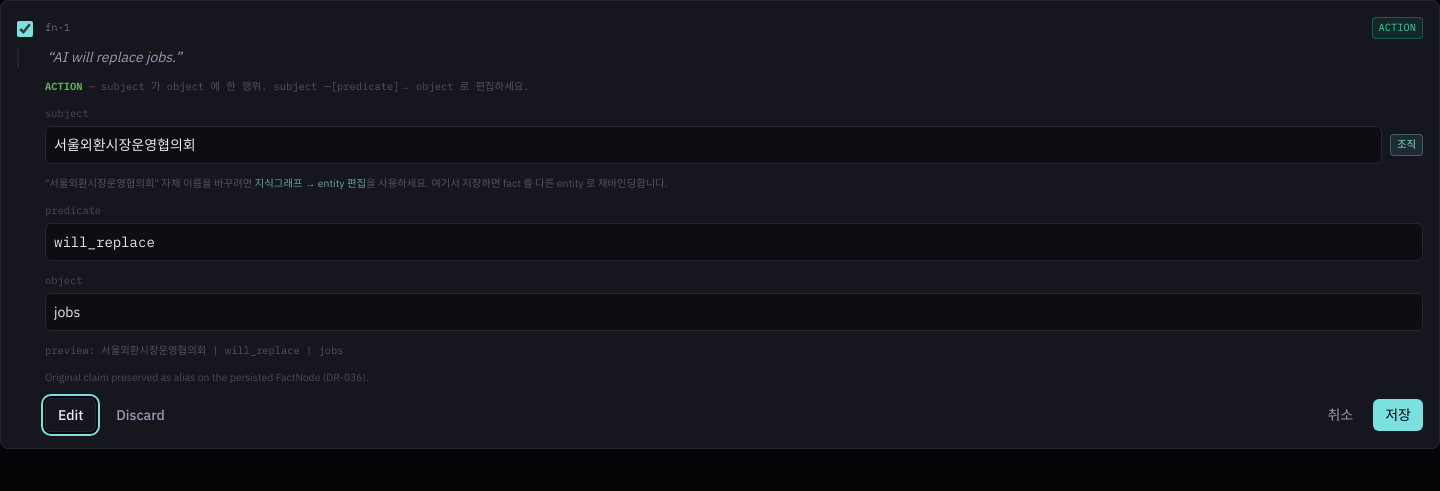
FactCard - decide-ux-v2 (3): edit-mode entity chips › renders subject entity-suggest chips when typing in edit mode
Replace the text in the field with test id "fact-edit-subject-fn-1" with "ACME" at (713, 145), box left=45, top=126, right=1382, bottom=164
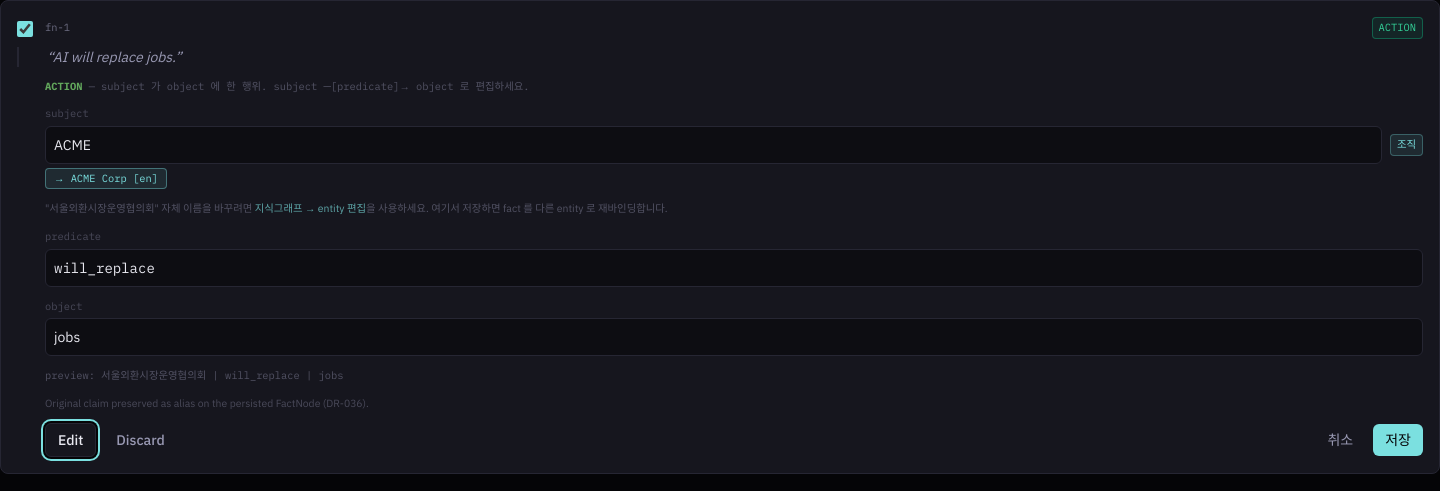
Expected: the button with test id "subject-chip-uuid-acme" is shown, left=45, top=168, right=167, bottom=189
